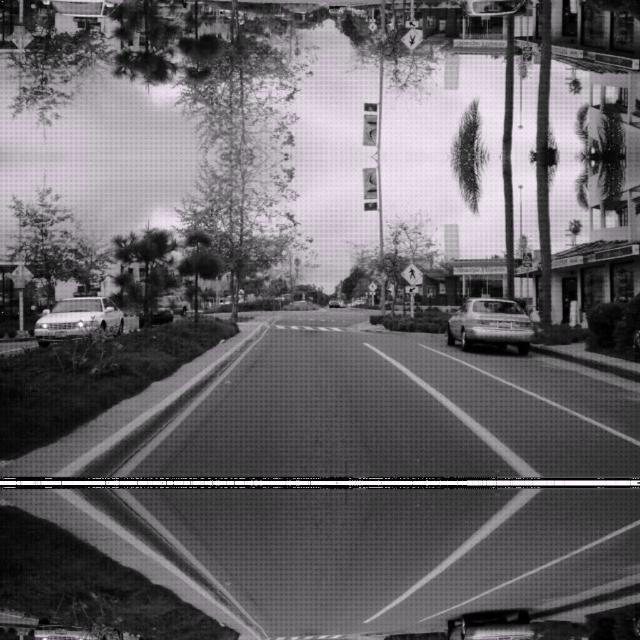pedestrianCrossing: (400, 261, 422, 285), (400, 27, 422, 51)
